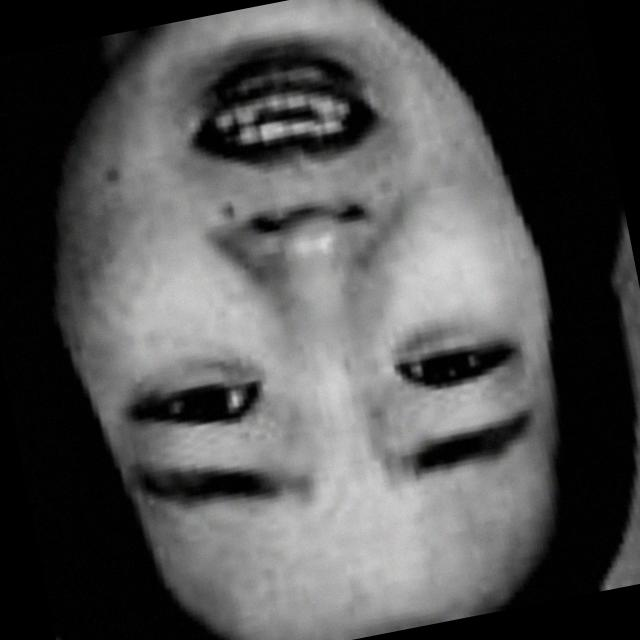fear: (29, 0, 590, 622)
